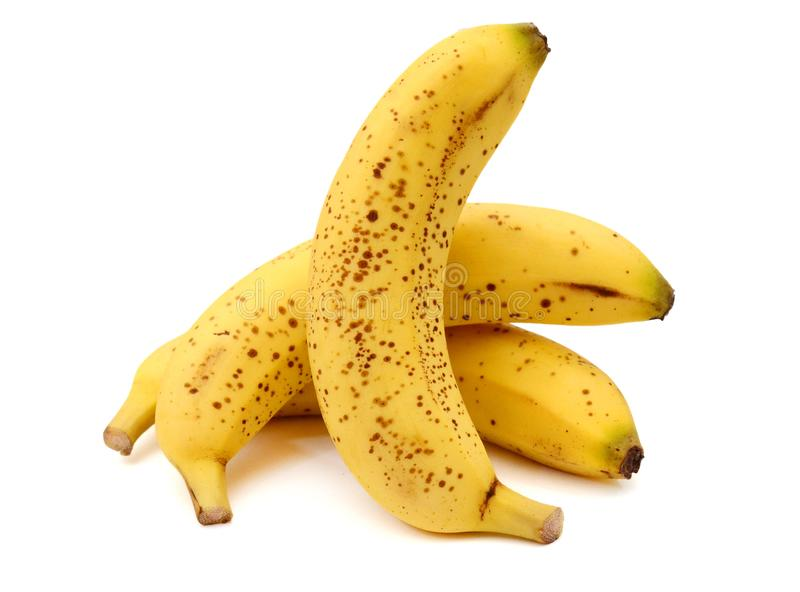looks_good: (81, 8, 698, 567)
